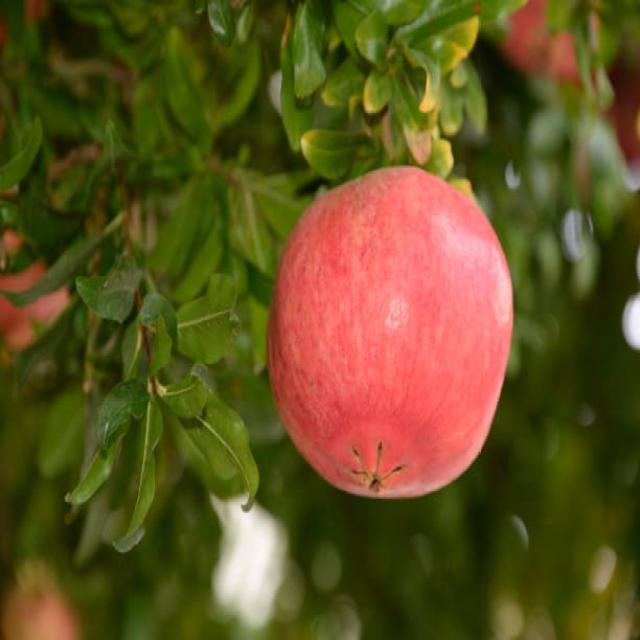Ripe: (261, 165, 517, 506)
